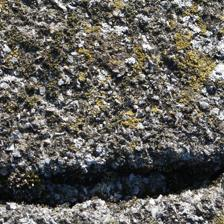Crack: (2, 68, 220, 150)
